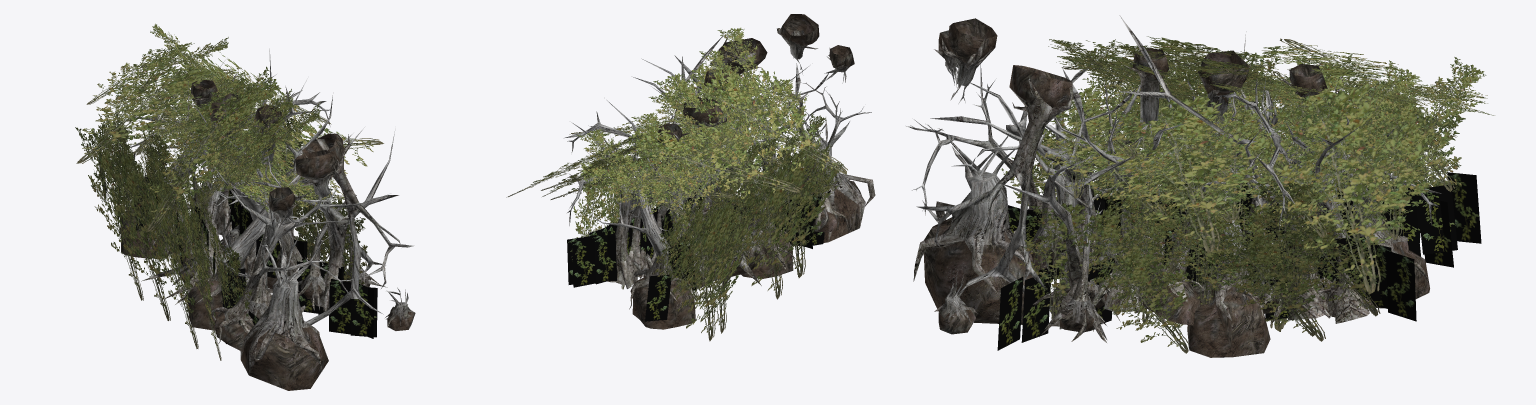
3 renders of one model, left to right at view 1: azimuth 30°, elevation 25°; view 2: azimuth 150°, elevation 25°; view 3: azimuth 270°, elevation 25°, orthographic. The views are drawn at different scales.
Parts seen in each view (by area): view 1: Material_#131, wall_03, Material_#10; view 2: Material_#131, wall_03, Material_#10; view 3: Material_#131, wall_03, Material_#10.
Boxes of the visible parts, x1,y1,x2,y2 form: Material_#131: [75, 23, 383, 360]; wall_03: [121, 48, 414, 374]; Material_#10: [120, 79, 415, 390]; Material_#131: [506, 27, 847, 341]; wall_03: [565, 26, 875, 309]; Material_#10: [630, 14, 861, 329]; Material_#131: [997, 36, 1494, 353]; wall_03: [906, 15, 1442, 342]; Material_#10: [923, 18, 1429, 357].
Size of the model in its own units: 17 by 15.18 by 21.63.
